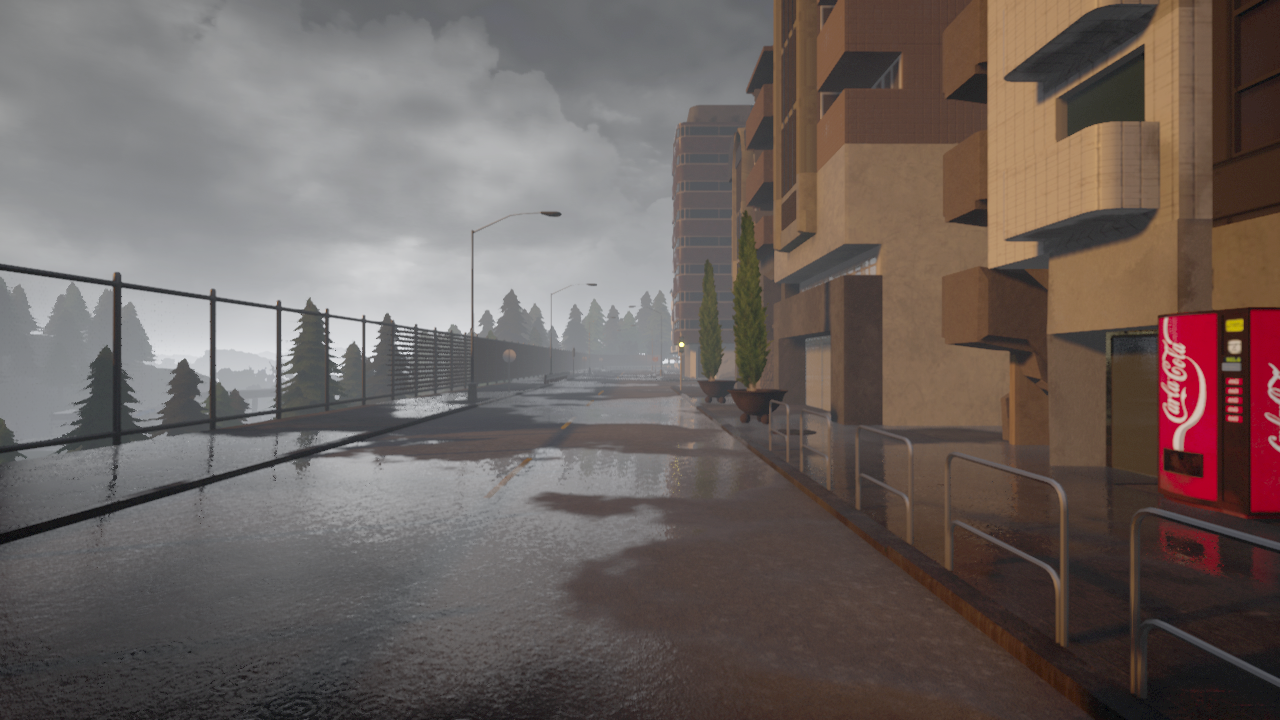yellow: (678, 336, 684, 354)
